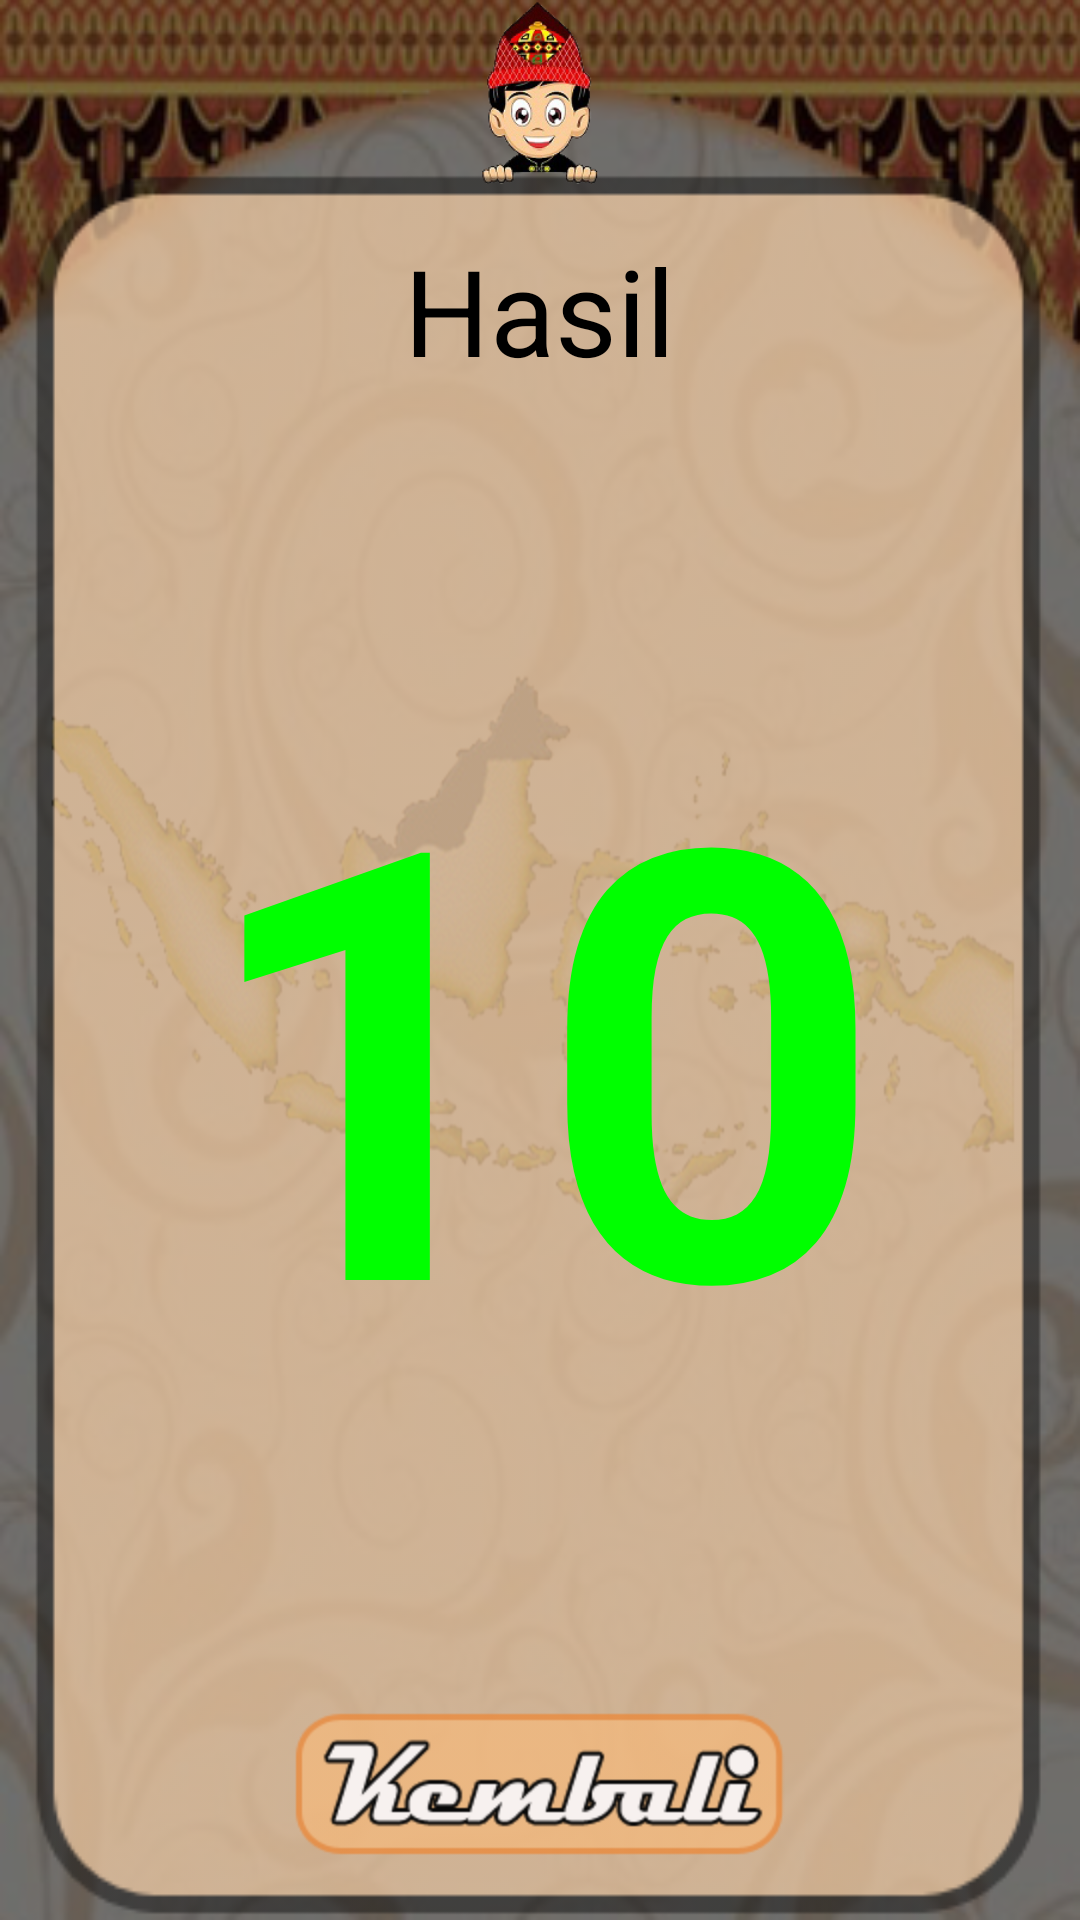

Screen size 1080px x 1920px. Icon name, then its center in pixels as (x=x, y=y):
orang: (x=540, y=92)
